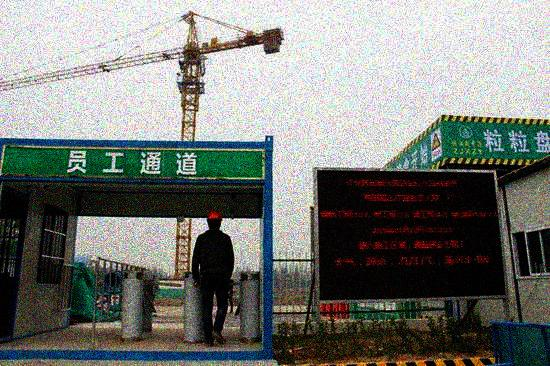helmet: (206, 209, 222, 231)
